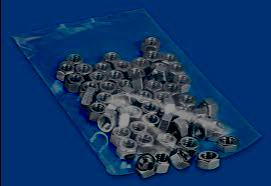Plastic: (14, 6, 271, 185)
